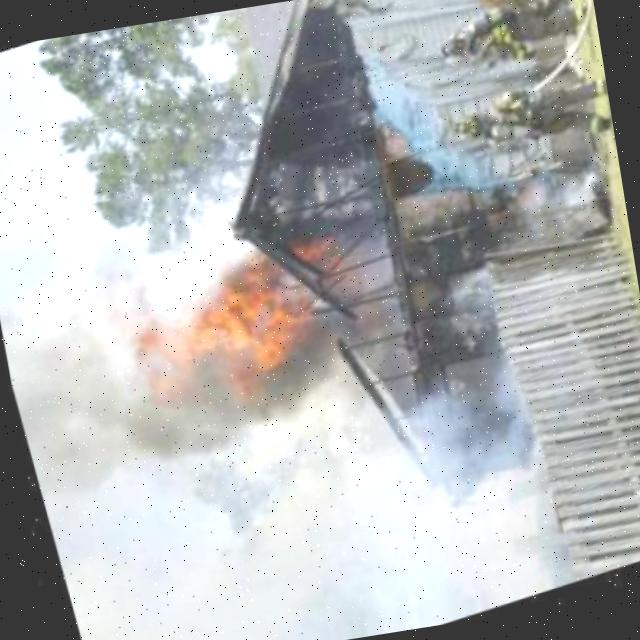fire: (168, 244, 344, 393)
